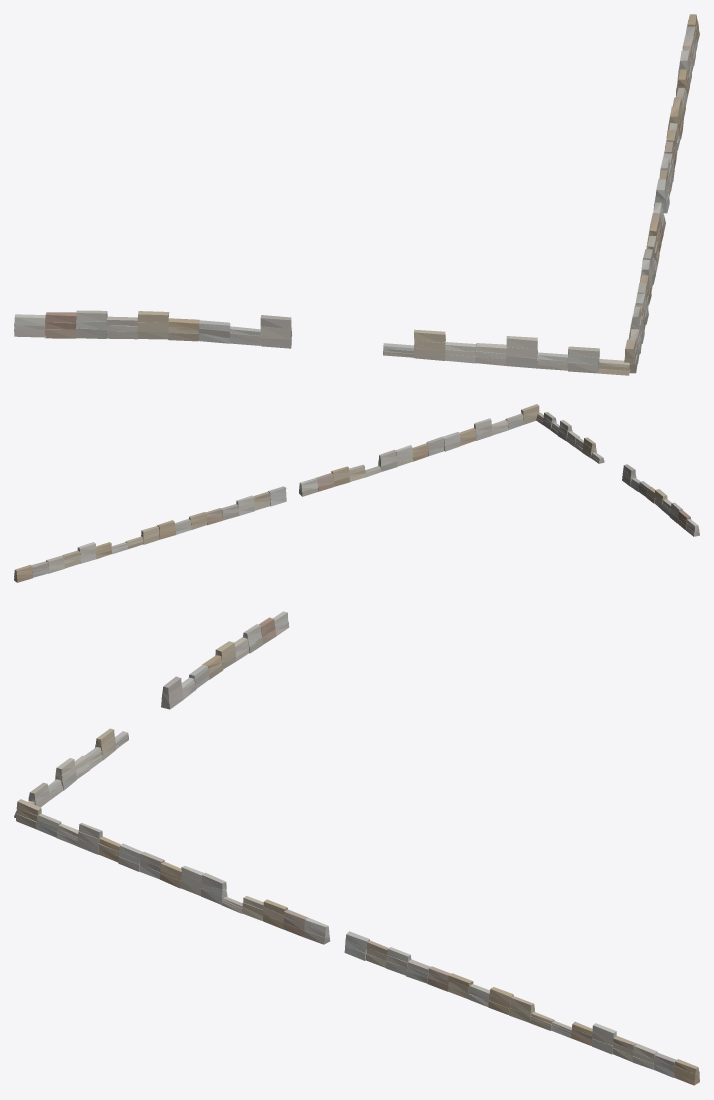
The model's file is farm_16_3_mid.glb.
3 views of the same model, one above another, from view 1: azimuth 30°, elevation 25°; view 2: azimuth 150°, elevation 25°; view 3: azimuth 270°, elevation 25° (orthographic). The views are drawn at different scales.
Visible parts, largest first — view 1: geometry_0; view 2: geometry_0; view 3: geometry_0.
Boxes of the visible parts, x1=… form: geometry_0: x1=14, y1=14, x2=699, y2=375; geometry_0: x1=14, y1=404, x2=699, y2=582; geometry_0: x1=14, y1=611, x2=699, y2=1085.
Size of the model in its own units: 54.99 by 7.94 by 43.54.
